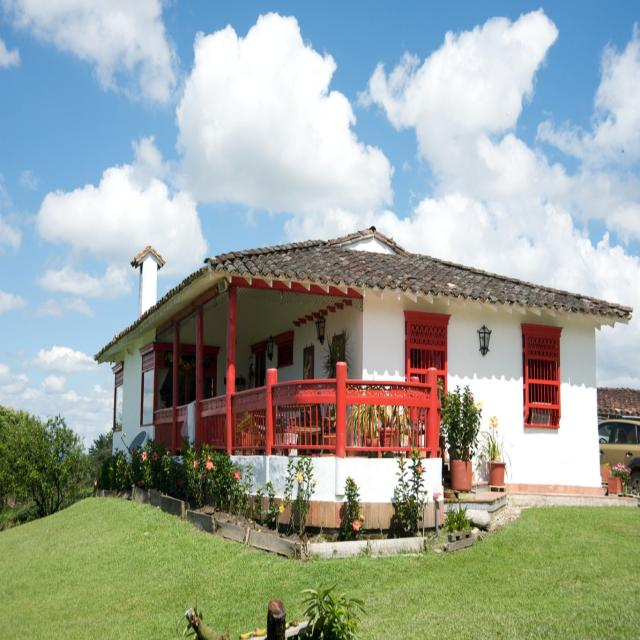Casa: (95, 228, 632, 528)
